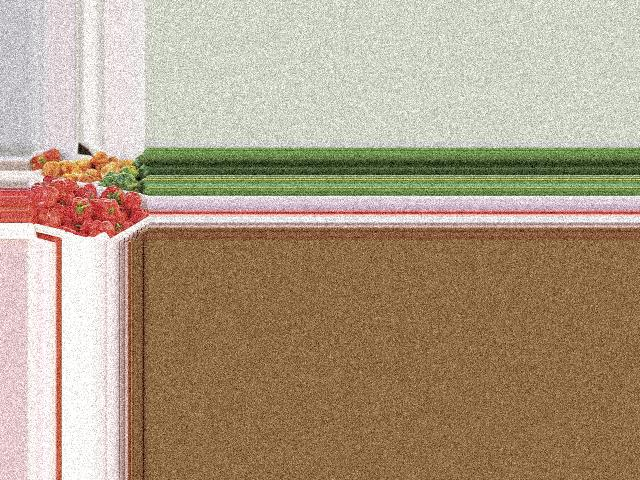bell_pepper: (79, 219, 114, 239)
